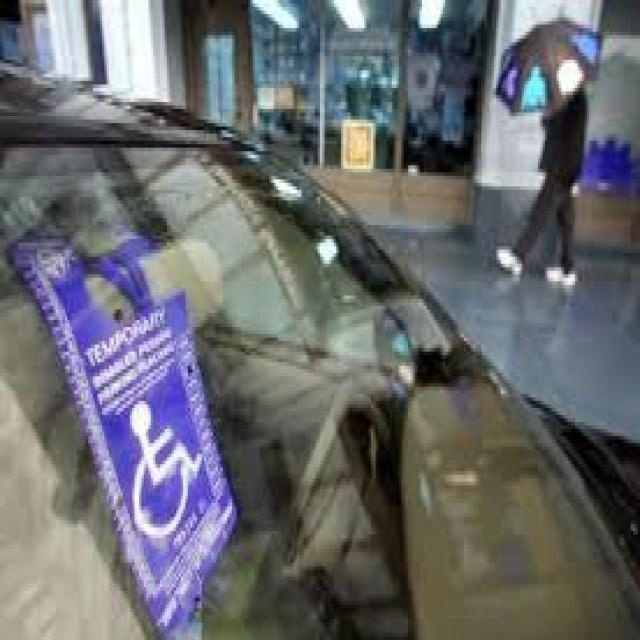ISA: (128, 400, 203, 538)
